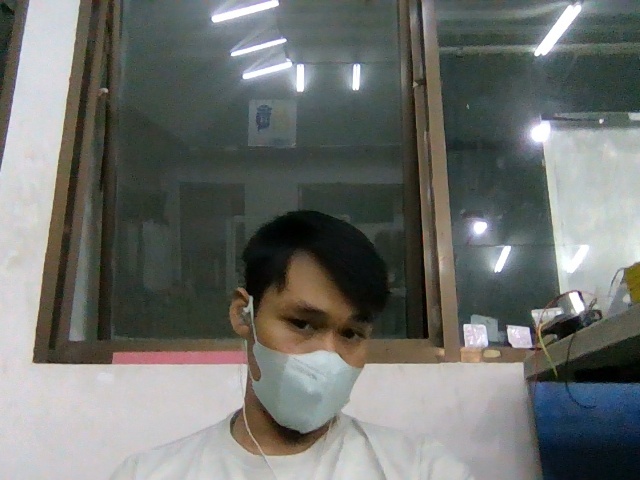mask_on: (248, 341, 361, 434)
